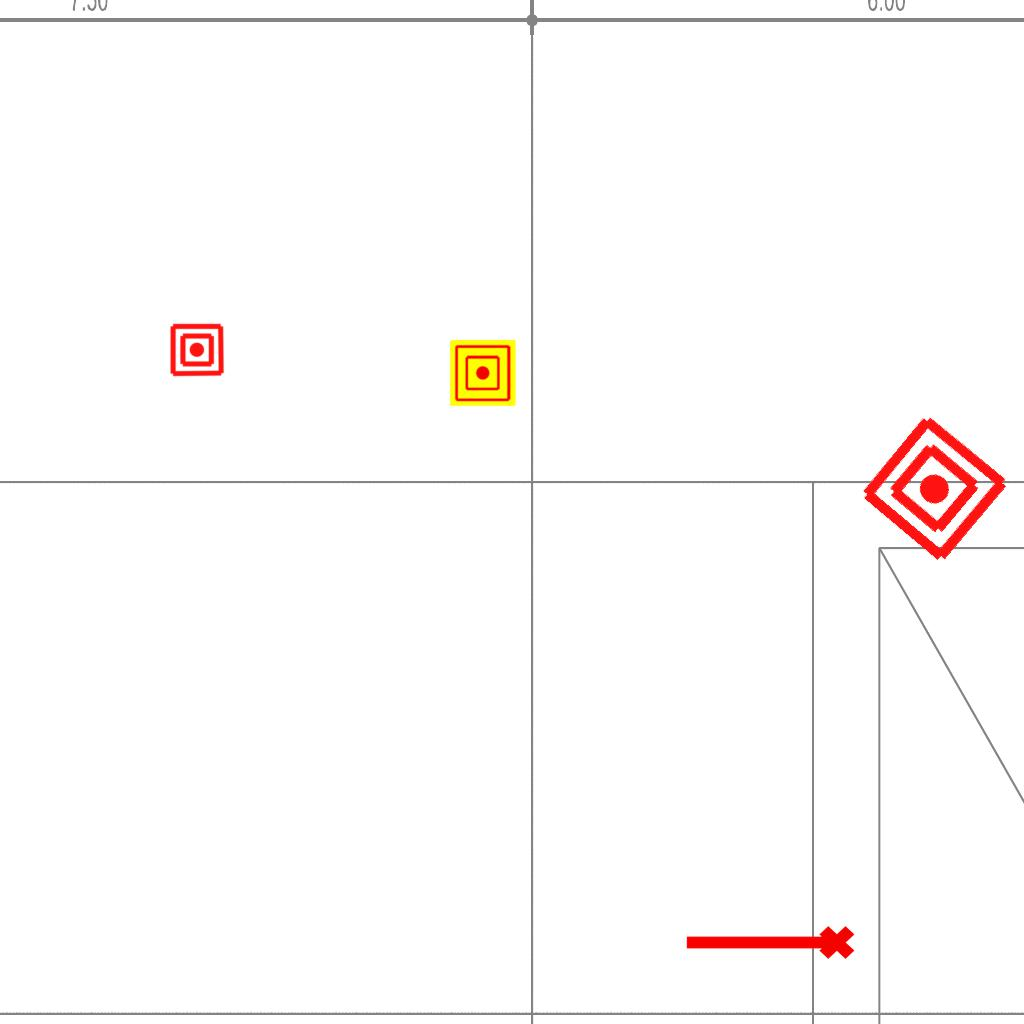ASR_Ansaugoeffnung: (681, 922, 857, 968)
NAM-Nichtautomatischer_Melder: (854, 408, 1015, 569), (450, 340, 516, 406), (169, 322, 225, 378)
